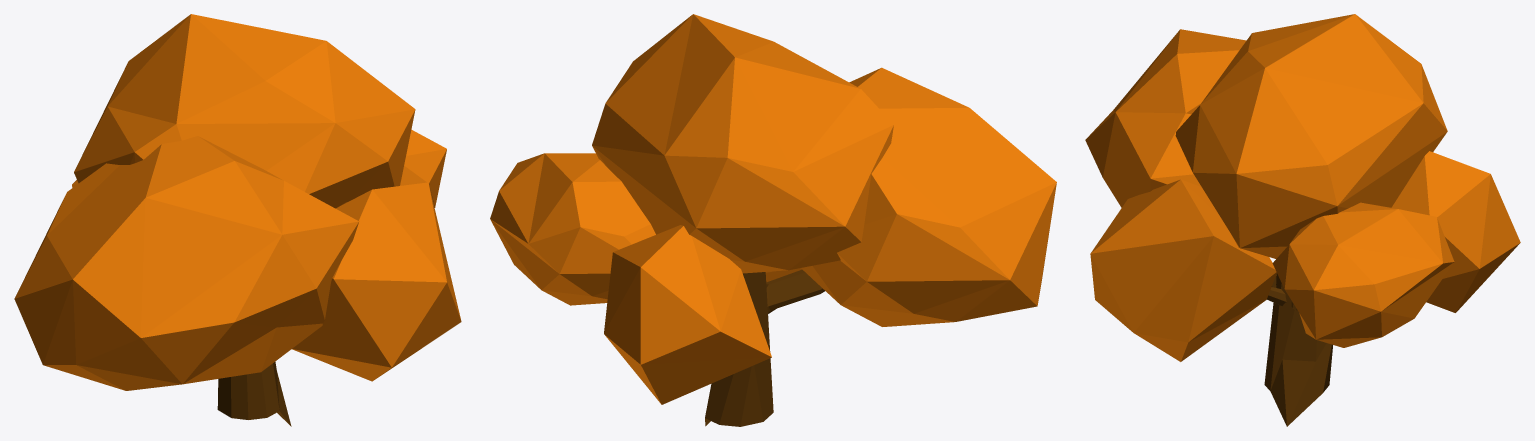
The model's file is Bush#13.fbx.
The picture shows the model from 3 angles, left to right: view 1: azimuth 30°, elevation 25°; view 2: azimuth 150°, elevation 25°; view 3: azimuth 270°, elevation 25°; orthographic projection. The views are drawn at different scales.
Parts seen in each view (by area): view 1: Bush#13; view 2: Bush#13; view 3: Bush#13.
Boxes of the visible parts, left/top/right/bottom form: Bush#13: left=14, top=14, right=461, bottom=426; Bush#13: left=490, top=14, right=1056, bottom=426; Bush#13: left=1085, top=14, right=1520, bottom=426.
Bounding box in the file's own units: 206 × 173 × 178.
